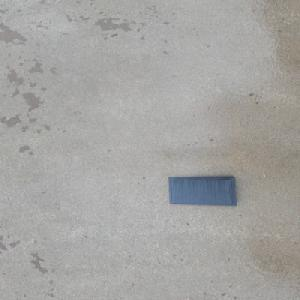PlasticPart: (167, 175, 238, 206)
